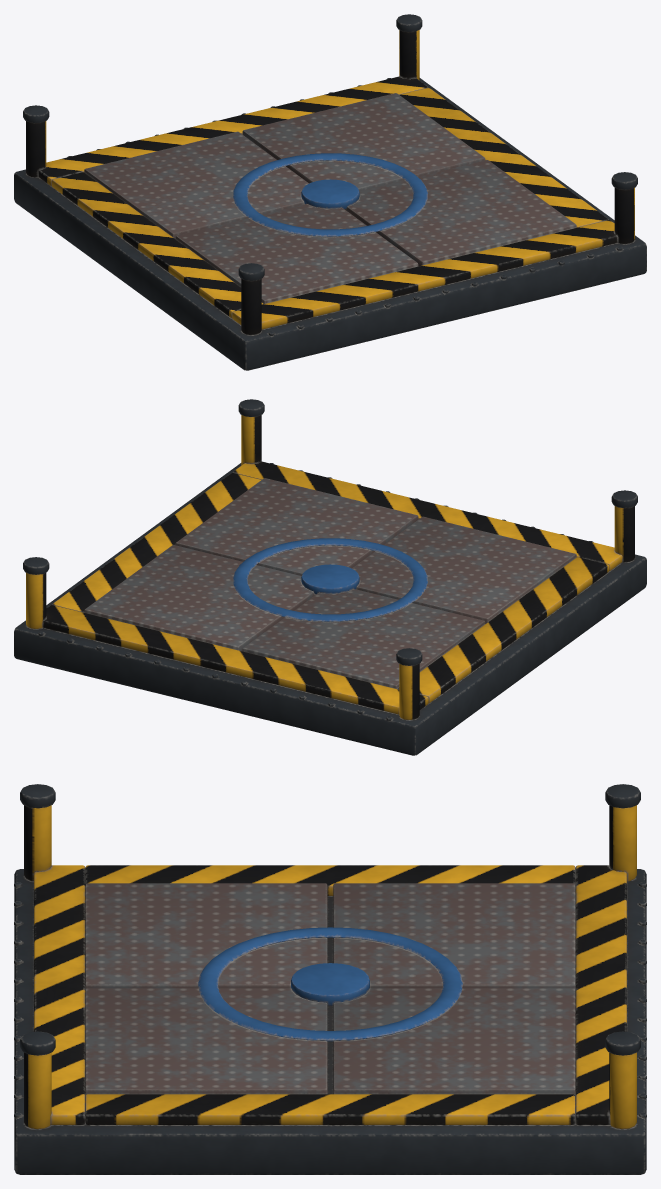
File: rampa_pisti.glb
3 renders of one model, top to bottom at view 1: azimuth 30°, elevation 25°; view 2: azimuth 150°, elevation 25°; view 3: azimuth 270°, elevation 25°, orthographic. The views are drawn at different scales.
Parts seen in each view (by area): view 1: pad; view 2: pad; view 3: pad.
Boxes of the visible parts, x1,y1,x2,y2 form: pad: [14, 14, 646, 370]; pad: [14, 399, 646, 755]; pad: [14, 784, 646, 1174].
Size of the model in its own units: 3.2 by 0.72 by 3.2.
1 material, 1 textured.
